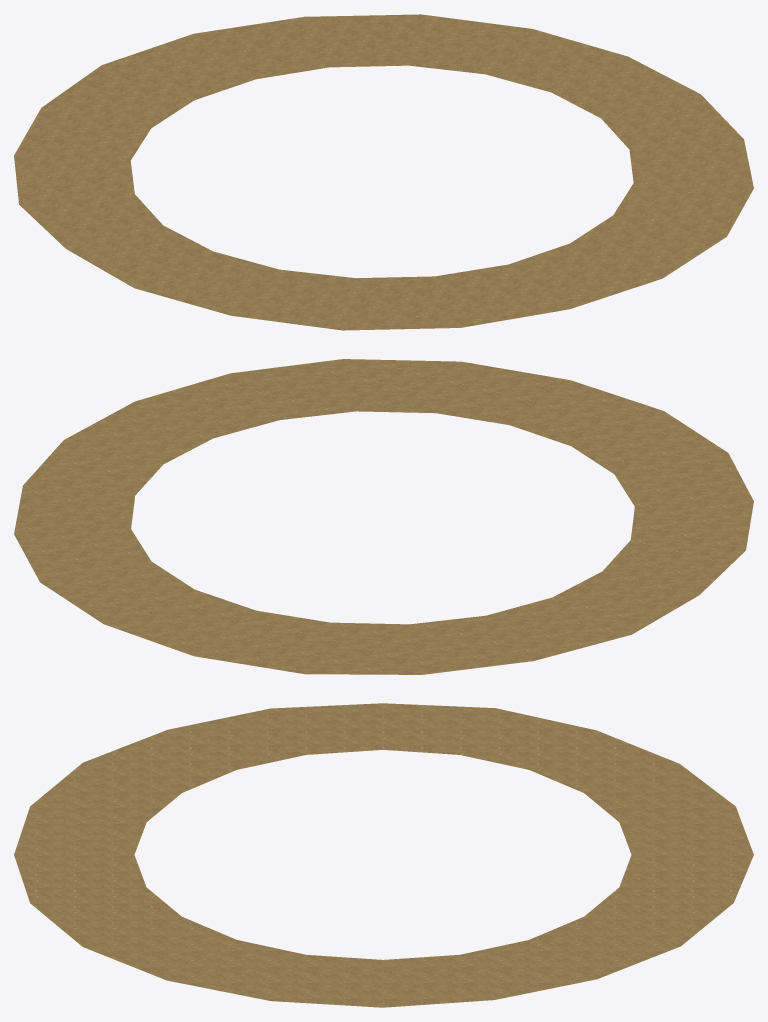
Rendered from guchengqishituan_qiangzhuan_07.FBX.
3 renders of one model, top to bottom at view 1: azimuth 30°, elevation 25°; view 2: azimuth 150°, elevation 25°; view 3: azimuth 270°, elevation 25°, orthographic.
Parts seen in each view (by area): view 1: guchengqishituan_qiangzhuan_7; view 2: guchengqishituan_qiangzhuan_7; view 3: guchengqishituan_qiangzhuan_7.
Boxes of the visible parts, box(x1,y1,x2,y2) form: guchengqishituan_qiangzhuan_7: box(14, 14, 753, 330); guchengqishituan_qiangzhuan_7: box(14, 359, 753, 674); guchengqishituan_qiangzhuan_7: box(14, 703, 753, 1007).
Bounding box in the file's own units: 8054 × 0.000362 × 8273.
